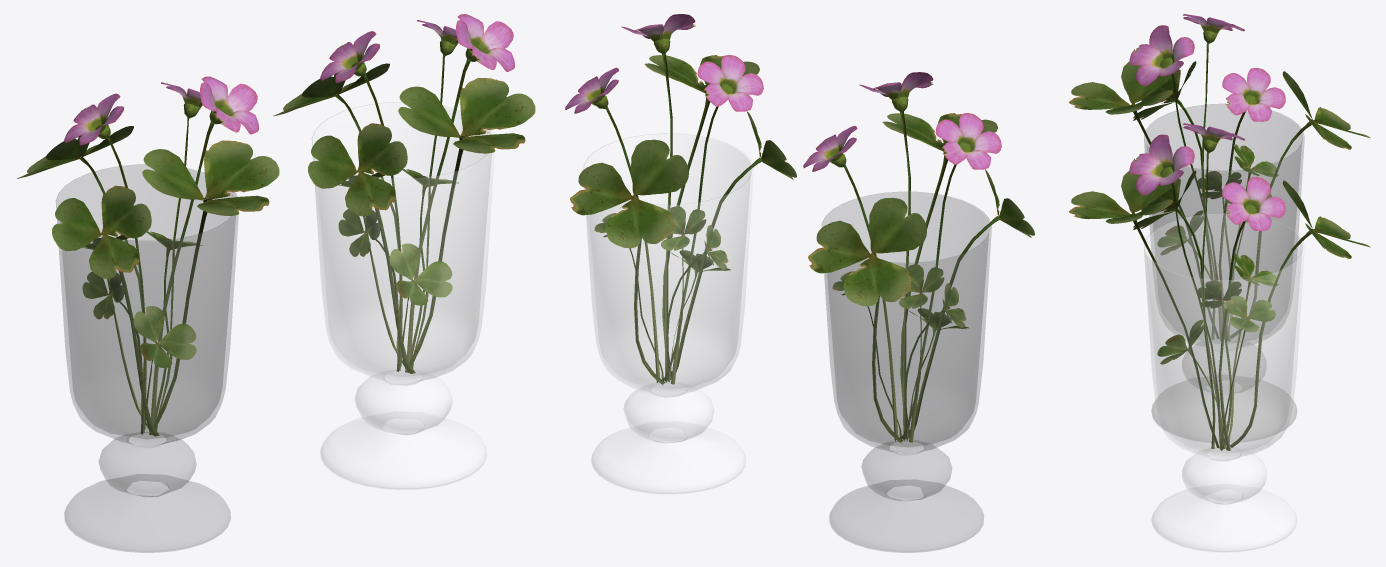
File: GlassVaseFlowers.glb
3 views of the same model, side by side, from view 1: azimuth 30°, elevation 25°; view 2: azimuth 150°, elevation 25°; view 3: azimuth 270°, elevation 25° (orthographic). The views are drawn at different scales.
Parts seen in each view (by area): view 1: Flowers1, GlassAlpha, GlassTransmission; view 2: Flowers1, GlassAlpha, GlassTransmission; view 3: GlassTransmission, Flowers1, GlassAlpha.
Boxes of the visible parts, left/top/right/bottom form: Flowers1: left=17, top=14, right=535, bottom=436; GlassAlpha: left=56, top=164, right=238, bottom=552; GlassTransmission: left=312, top=102, right=494, bottom=490; Flowers1: left=565, top=14, right=1034, bottom=443; GlassAlpha: left=822, top=192, right=991, bottom=552; GlassTransmission: left=584, top=133, right=753, bottom=494; GlassTransmission: left=1144, top=213, right=1304, bottom=552; Flowers1: left=1069, top=14, right=1370, bottom=450; GlassAlpha: left=1144, top=104, right=1304, bottom=442.
Bounding box in the file's own units: 0.2173 × 0.2032 × 0.1425.
Materials: 3 (1 with a texture image).
